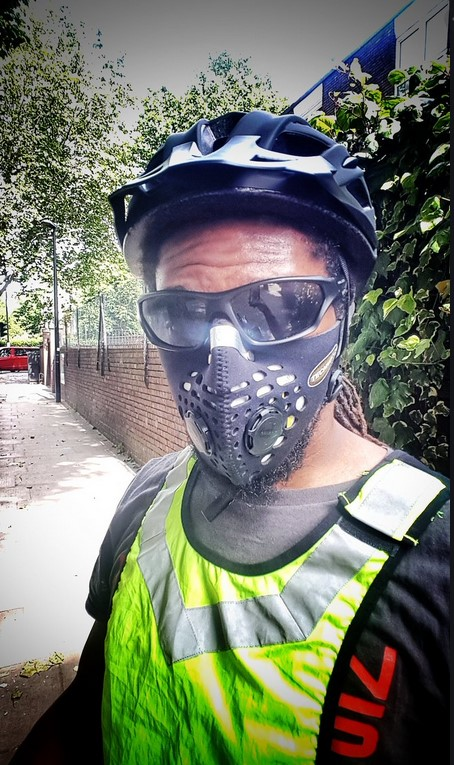face_with_mask: (105, 110, 378, 499)
